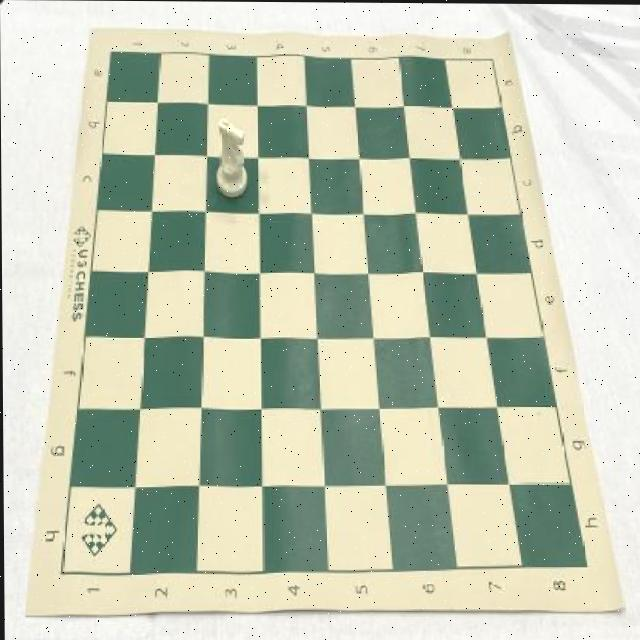white-king: (215, 116, 248, 199)
